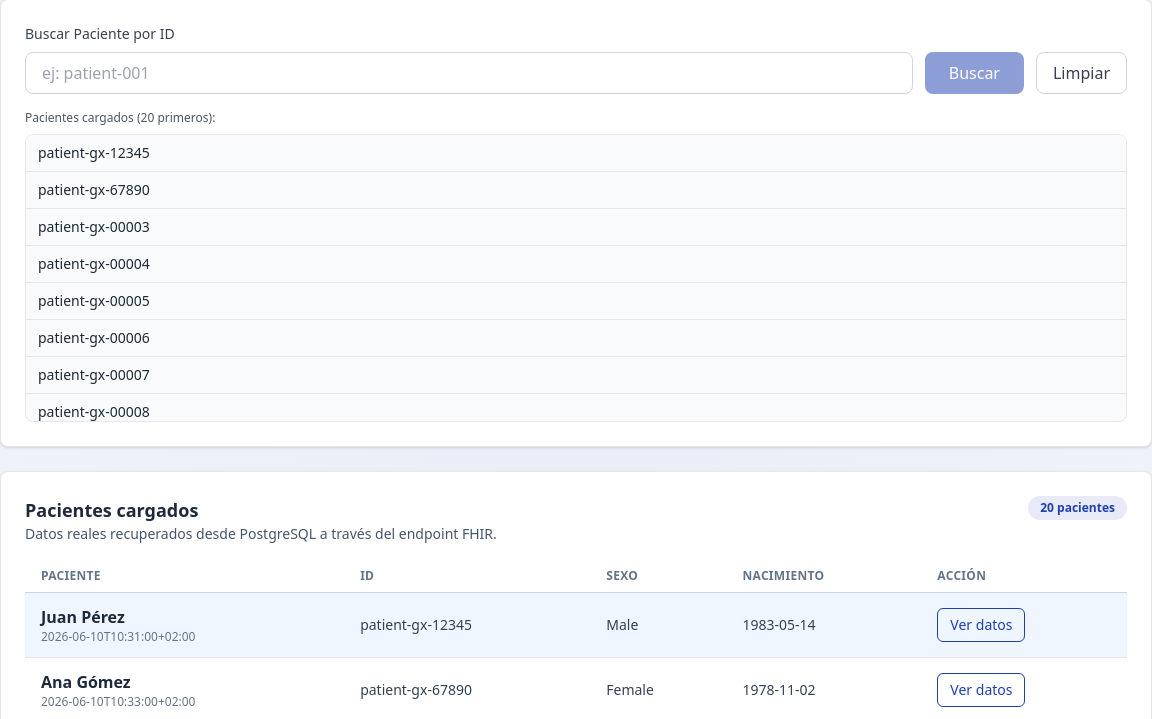
Test: Dashboard › allows selecting another patient from the table
Click the button "Ver datos" in the row of "Ana Gómez": (981, 690) [937, 673, 1025, 707]
(page scrolled)
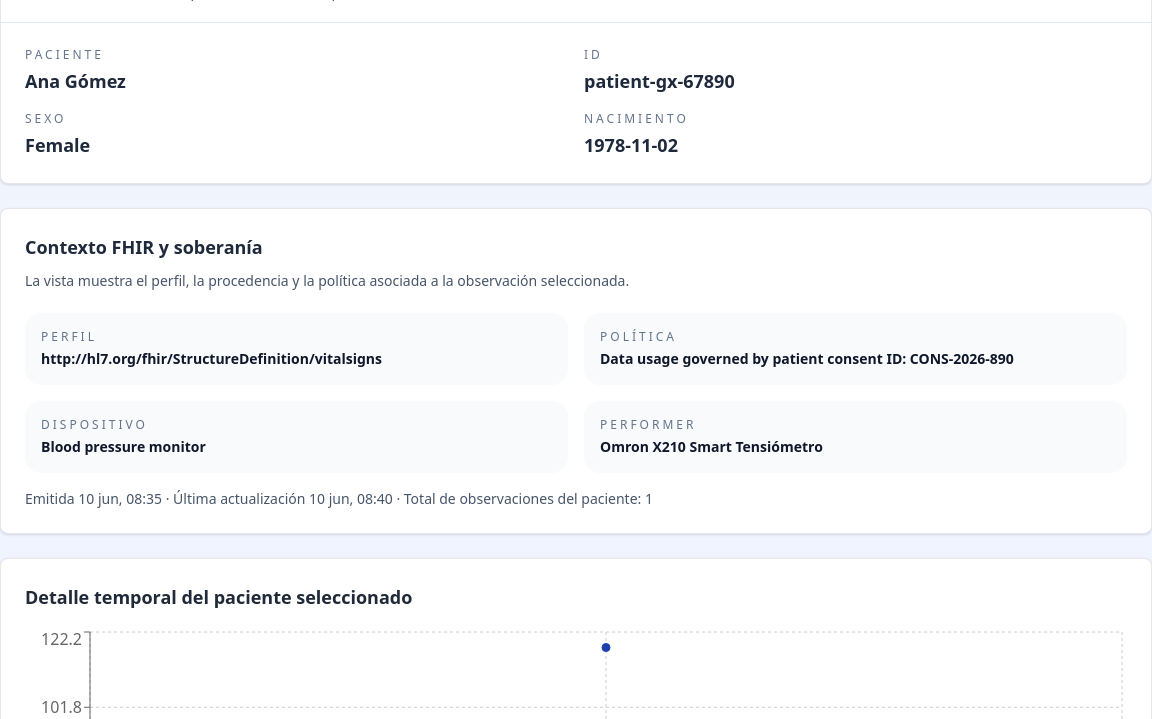
expect the text "Data usage governed by patient consent ID: CONS-2026-890" is shown: met, box [600, 349, 1014, 368]
